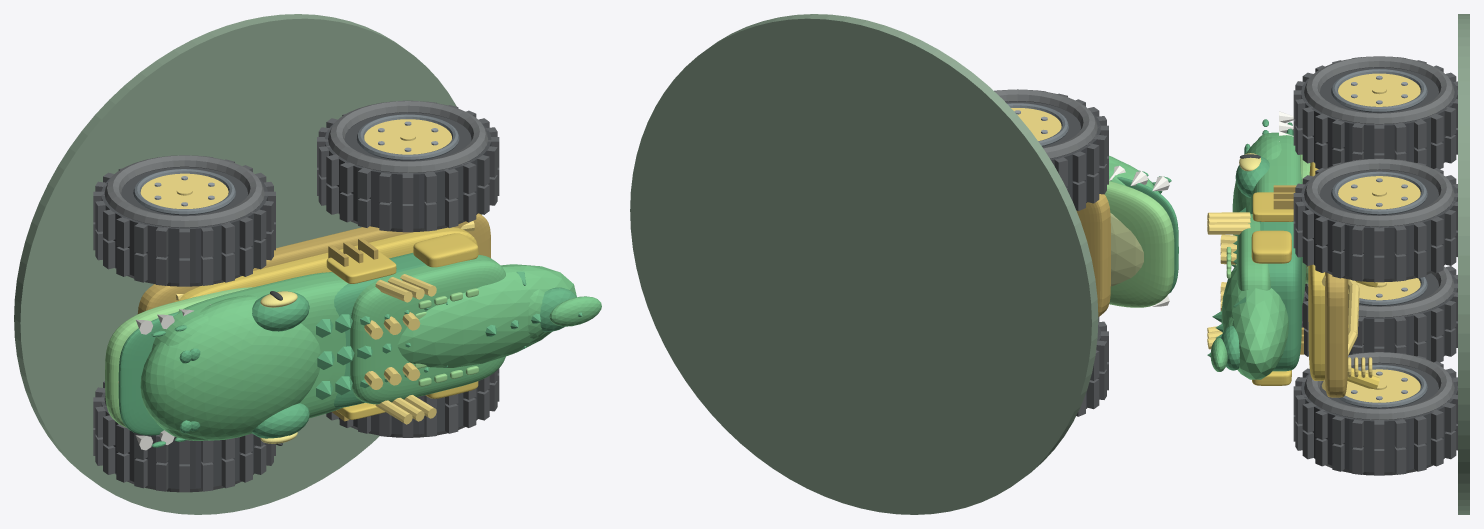
The model's file is crocodile_monster_truck.glb.
The picture shows the model from 3 angles, left to right: view 1: azimuth 30°, elevation 25°; view 2: azimuth 150°, elevation 25°; view 3: azimuth 270°, elevation 25°; orthographic projection. The views are drawn at different scales.
Visible parts, largest first — view 1: display_base__platform, body__green, body__green_dark, rear_L__tread, front_L__tread, body__gold, front_R__tread, front_L__tire, rear_L__tire, front_L__rubber_soft, rear_L__rubber_soft, body__gold_dark (+10 smaller); view 2: display_base__platform, body__green_light, front_L__tread, body__gold_dark, front_L__rubber_soft, body__croc_belly, front_R__tread, front_L__tire, body__green_dark, front_L__gold_bright, front_L__steel_dark; view 3: body__green, rear_L__tread, rear_R__tread, front_L__tread, display_base__platform, body__gold, body__green_dark, rear_L__tire, rear_L__rubber_soft, front_L__rubber_soft, rear_R__tire, front_L__tire (+15 smaller).
Boxes of the visible parts, x1,y1,x2,y2 form: display_base__platform: (14,14,481,514); body__green: (140,255,601,440); body__green_dark: (118,253,582,447); rear_L__tread: (317,100,499,232); front_L__tread: (93,156,275,286); body__gold: (175,227,478,419); front_R__tread: (93,381,275,492); front_L__tire: (101,167,267,283); rear_L__tire: (324,112,491,228); front_L__rubber_soft: (104,155,264,286); rear_L__rubber_soft: (328,100,487,231); body__gold_dark: (137,213,490,421); display_base__platform: (630,14,1098,514); body__green_light: (1104,181,1174,307); front_L__tread: (994,90,1108,210); body__gold_dark: (1076,194,1110,316); front_L__rubber_soft: (994,89,1097,202); body__croc_belly: (1110,213,1143,286); front_R__tread: (1076,317,1108,416); front_L__tire: (1005,101,1100,201); body__green_dark: (1117,170,1178,293); front_L__gold_bright: (1011,108,1061,140); front_L__steel_dark: (1007,103,1068,146); body__green: (1210,132,1306,379); rear_L__tread: (1293,158,1457,282); rear_R__tread: (1293,352,1457,475); front_L__tread: (1293,57,1457,169); display_base__platform: (1458,14,1469,514); body__gold: (1251,162,1379,389); body__green_dark: (1207,119,1301,371); rear_L__tire: (1301,169,1457,278); rear_L__rubber_soft: (1304,158,1454,281); front_L__rubber_soft: (1304,56,1454,163); rear_R__tire: (1301,363,1457,472); front_L__tire: (1301,67,1457,167).
Bounding box in the file's own units: 4.98 × 4.98 × 2.61.
